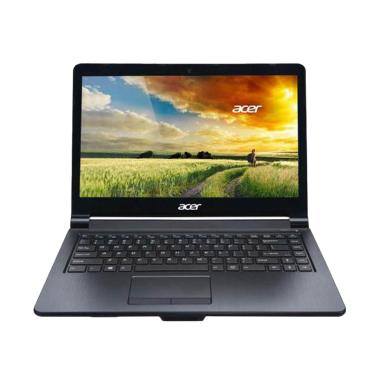Laptop: (30, 58, 353, 327)
